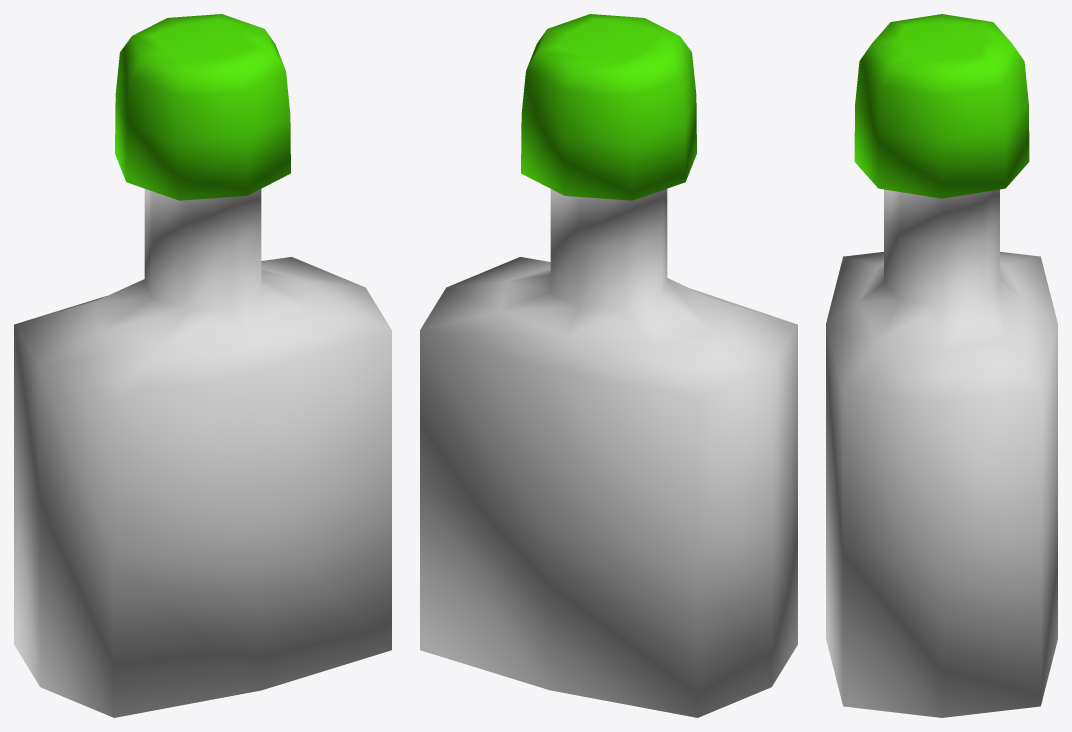
File: GarrafaOW_3.fbx
3 renders of one model, left to right at view 1: azimuth 30°, elevation 25°; view 2: azimuth 150°, elevation 25°; view 3: azimuth 270°, elevation 25°, orthographic.
Parts seen in each view (by area): view 1: GarrafaOW_3; view 2: GarrafaOW_3; view 3: GarrafaOW_3.
Boxes of the visible parts, x1=… form: GarrafaOW_3: x1=14, y1=14, x2=391, y2=717; GarrafaOW_3: x1=420, y1=14, x2=797, y2=717; GarrafaOW_3: x1=826, y1=14, x2=1057, y2=717.
Bounding box in the file's own units: 17.24 × 30.66 × 10.77.
